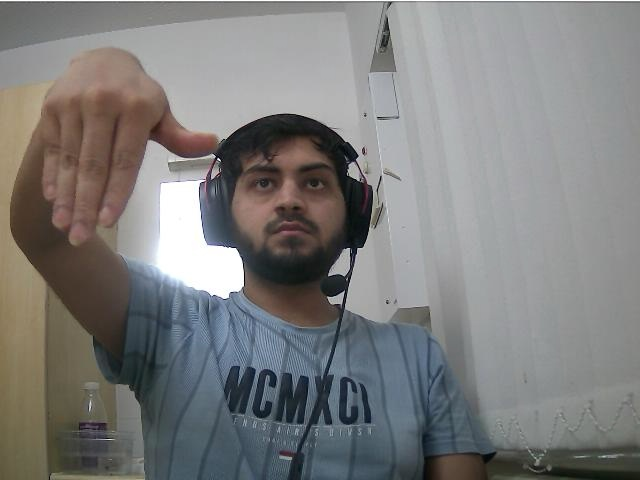down: (40, 37, 161, 249)
